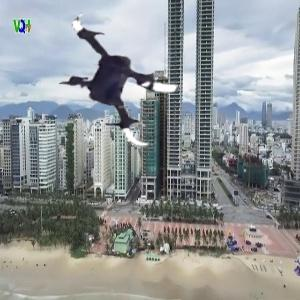drone: (49, 3, 201, 155)
